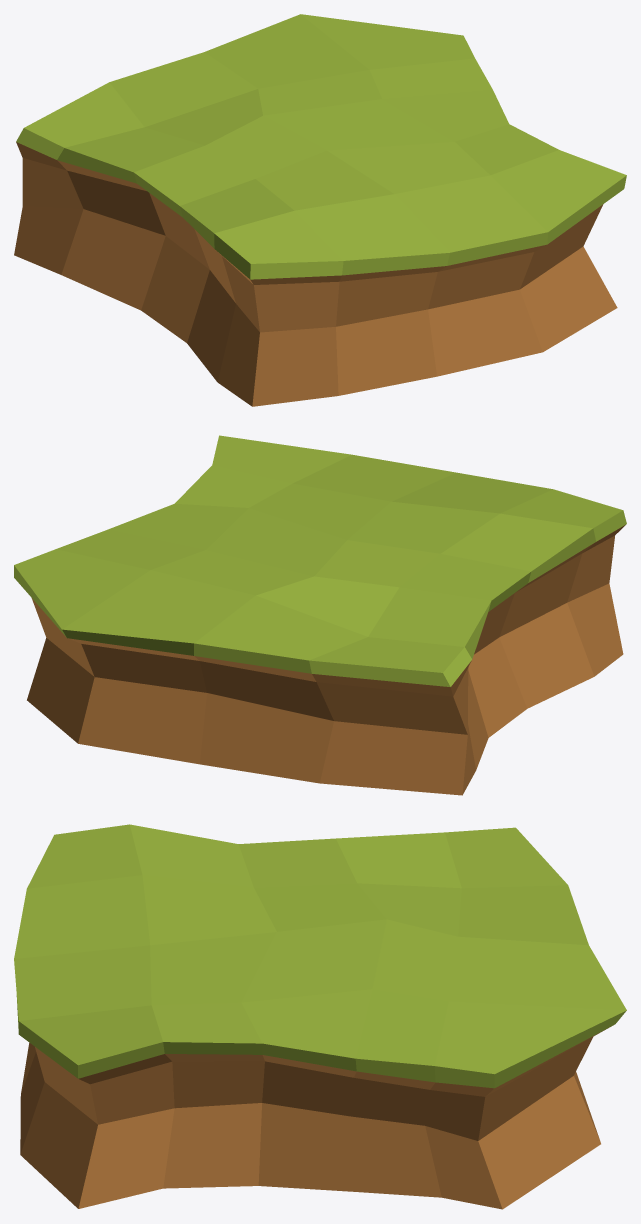
File: drn_textured5.fbx
3 views of the same model, one above another, from view 1: azimuth 30°, elevation 25°; view 2: azimuth 150°, elevation 25°; view 3: azimuth 270°, elevation 25° (orthographic). The views are drawn at different scales.
Parts seen in each view (by area): view 1: JaynamLowPolyTerrain_drny_rozdelane:pCube4; view 2: JaynamLowPolyTerrain_drny_rozdelane:pCube4; view 3: JaynamLowPolyTerrain_drny_rozdelane:pCube4.
Boxes of the visible parts, bbox=[...] form: JaynamLowPolyTerrain_drny_rozdelane:pCube4: bbox=[14, 14, 626, 406]; JaynamLowPolyTerrain_drny_rozdelane:pCube4: bbox=[14, 435, 626, 795]; JaynamLowPolyTerrain_drny_rozdelane:pCube4: bbox=[14, 824, 626, 1209].
Size of the model in its own units: 0.7562 by 0.2475 by 0.7898.
